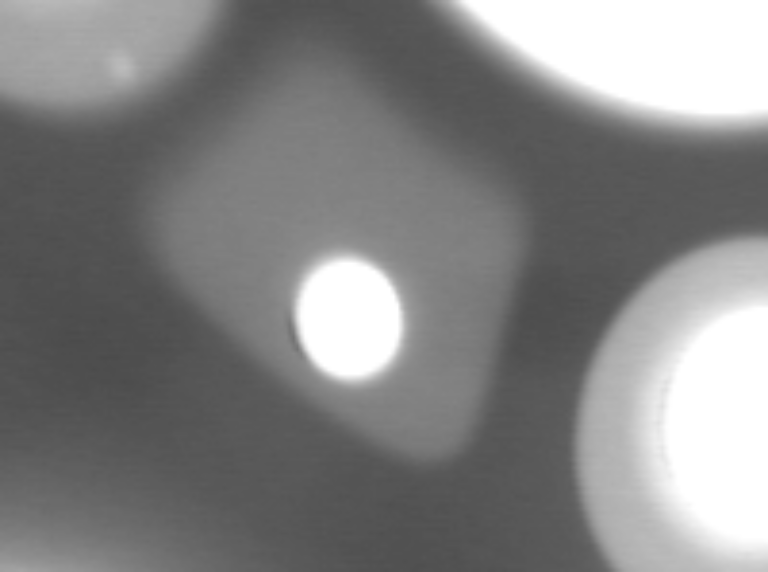defect: (100, 57, 146, 102)
